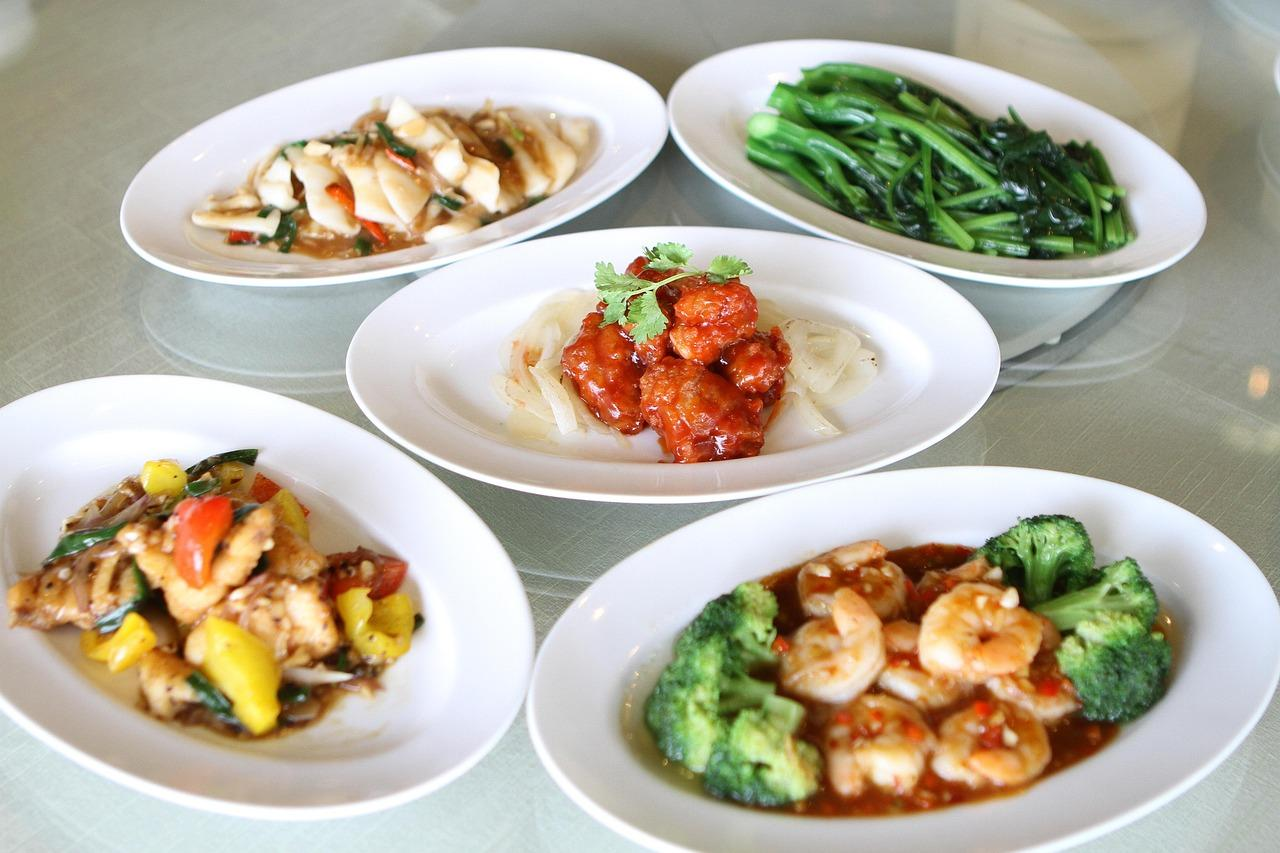Braised Crucian Carp: (546, 470, 1272, 842), (7, 373, 545, 812), (347, 226, 1002, 499), (680, 36, 1207, 291), (122, 45, 652, 289)
